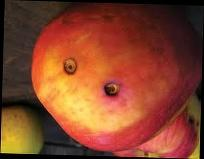rotten apple: (29, 5, 202, 156)
